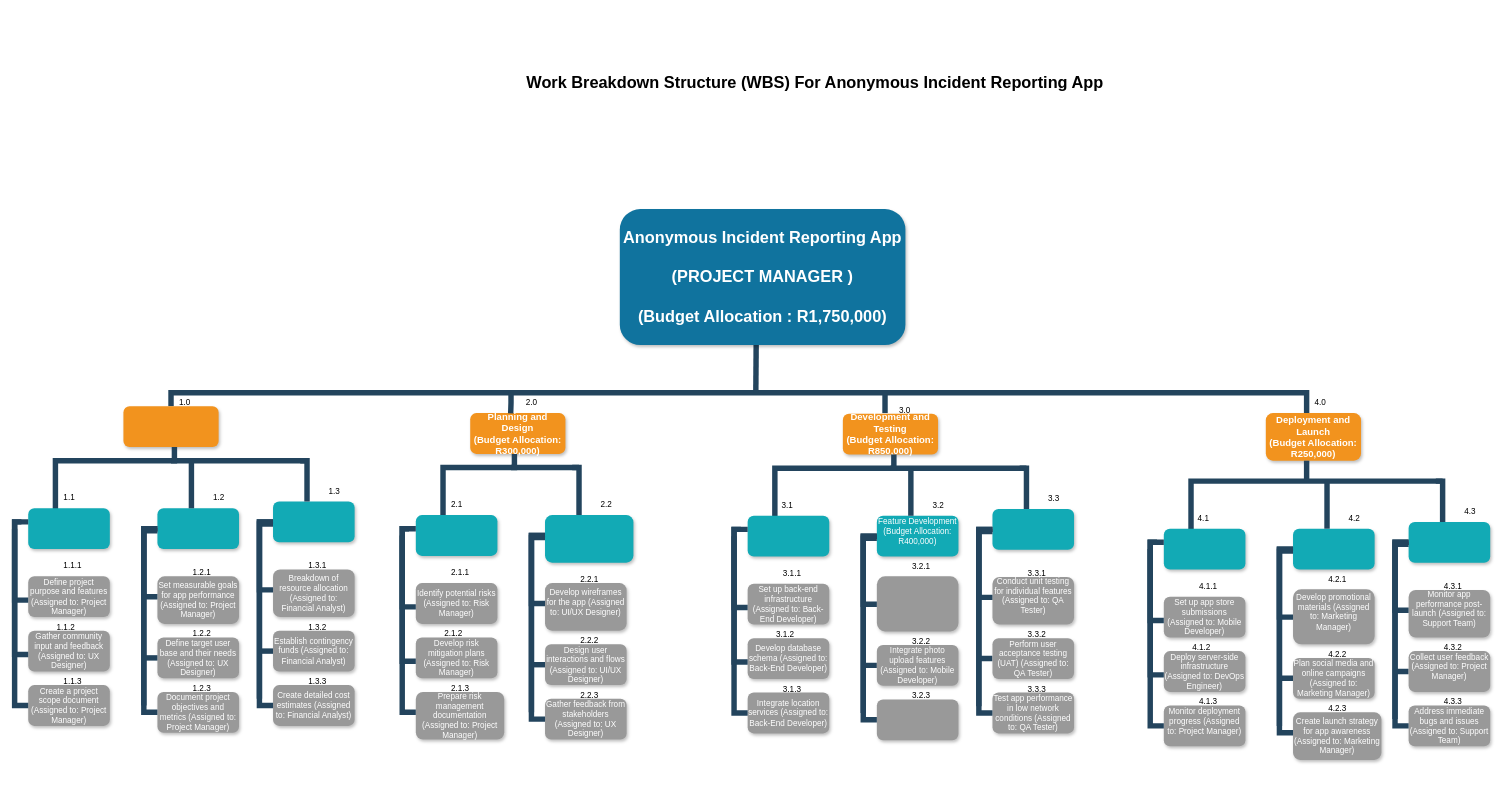
The diagram is 1506 pixels wide and 798 high, and some of its shapes have lost their labels. Each missing label, with the centre of its shape:
App Development (Budget Allocation: R400,000): the point at 789,537
App Testing (Budget Allocation: R50,000): the point at 1033,530
Budget Allocation Plan (Budget Allocation: R50,000): the point at 314,522
Deployment (Budget Allocation: R100,000): the point at 1205,550
Design User Interface and Experience (Budget Allocation: R200,000): the point at 589,539
Implement anonymous reporting functionality (Assigned to: Mobile Developer): the point at 918,604
Marketing and Promotion (Budget Allocation: R100,000): the point at 1334,550
Post-Launch Support (Budget Allocation: R50,000): the point at 1450,543
Project Initiation (Budget Allocation: R300,000): the point at 171,427
Project Objectives (Budget Allocation: R100,000): the point at 198,529
Project Scope Definition (Budget Allocation: R150,000): the point at 69,529
Risk Management Strategy (Budget Allocation: R100,000): the point at 457,536
Test the integrated features (Assigned to: QA Tester): the point at 918,720
